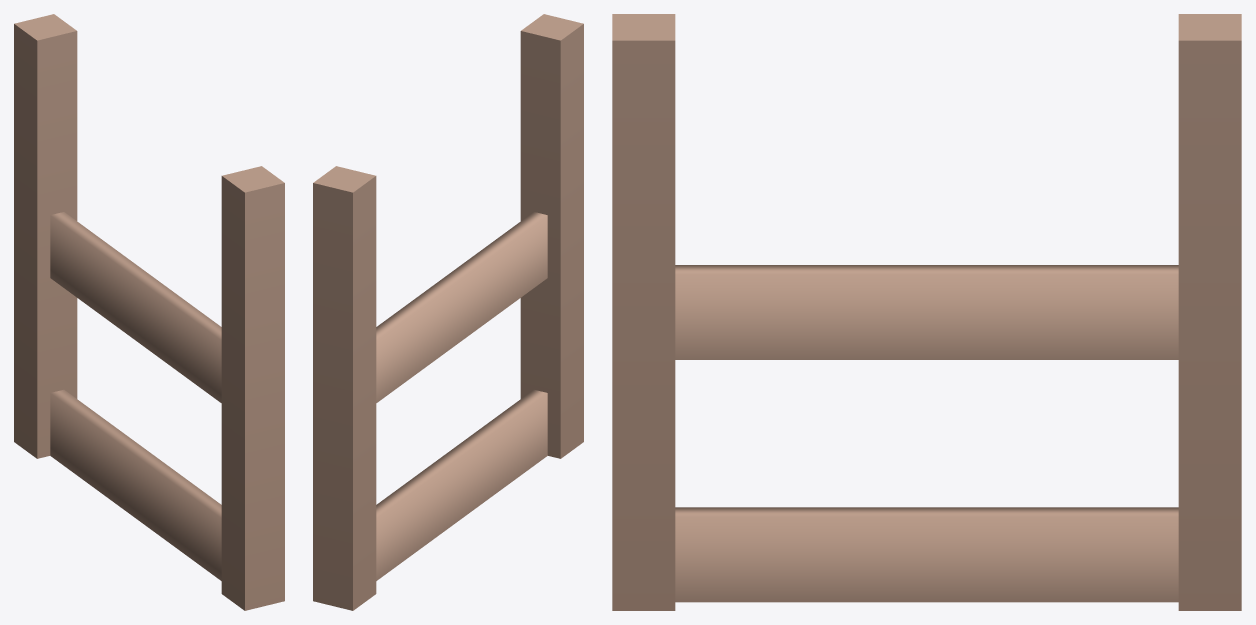
Rendered from poles-horizontal.glb.
3 views of the same model, side by side, from view 1: azimuth 30°, elevation 25°; view 2: azimuth 150°, elevation 25°; view 3: azimuth 270°, elevation 25° (orthographic). The views are drawn at different scales.
Visible parts, largest first — view 1: poles-horizontal; view 2: poles-horizontal; view 3: poles-horizontal.
Part boxes in pixels (x1=…): poles-horizontal: x1=14, y1=14, x2=284, y2=610; poles-horizontal: x1=313, y1=14, x2=583, y2=610; poles-horizontal: x1=612, y1=14, x2=1241, y2=610.
Bounding box in the file's own units: 0.1 × 1 × 1.
